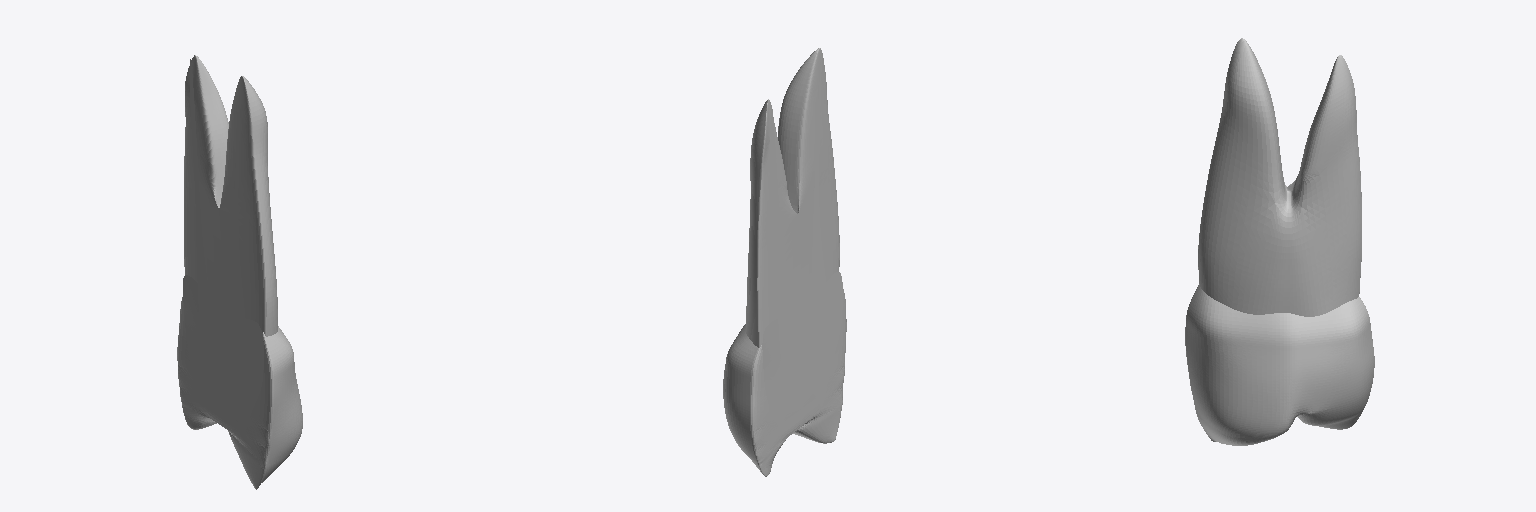
Rendered from Longitudinal.obj.
3 renders of one model, left to right at view 1: azimuth 30°, elevation 25°; view 2: azimuth 150°, elevation 25°; view 3: azimuth 270°, elevation 25°, orthographic.
Visible parts, largest first — view 1: Cylinder, Cylinder.001, Plane.001, Plane; view 2: Cylinder, Cylinder.001, Plane.001, Plane; view 3: Cylinder, Cylinder.001.
Boxes of the visible parts, <box> form: Cylinder: <box>184,55,277,336</box>; Cylinder.001: <box>177,297,302,489</box>; Plane.001: <box>190,59,245,418</box>; Plane: <box>183,275,263,436</box>; Cylinder: <box>746,48,839,347</box>; Cylinder.001: <box>723,289,846,476</box>; Plane.001: <box>771,52,826,394</box>; Plane: <box>762,272,842,425</box>; Cylinder: <box>1198,38,1361,316</box>; Cylinder.001: <box>1185,285,1374,445</box>.
Size of the model in its own units: 0.886 by 4.97 by 2.11.